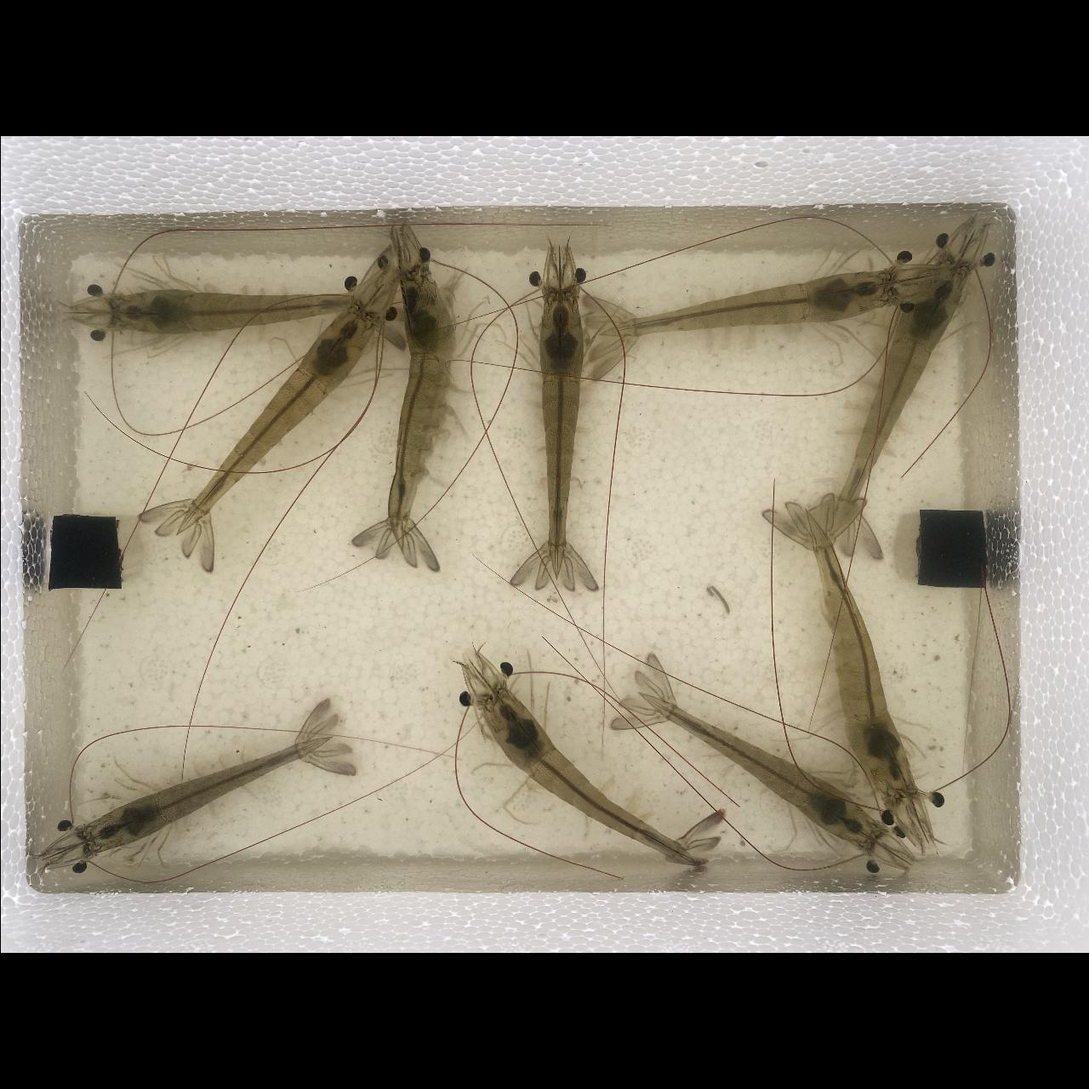box: (917, 510, 987, 589), (49, 516, 119, 589)
top_shrimp: (180, 305, 374, 533), (643, 694, 883, 847), (483, 689, 693, 863), (830, 264, 965, 534), (83, 738, 328, 849), (813, 524, 910, 798), (619, 272, 898, 334), (390, 271, 449, 543), (539, 288, 584, 575), (114, 291, 366, 332)
